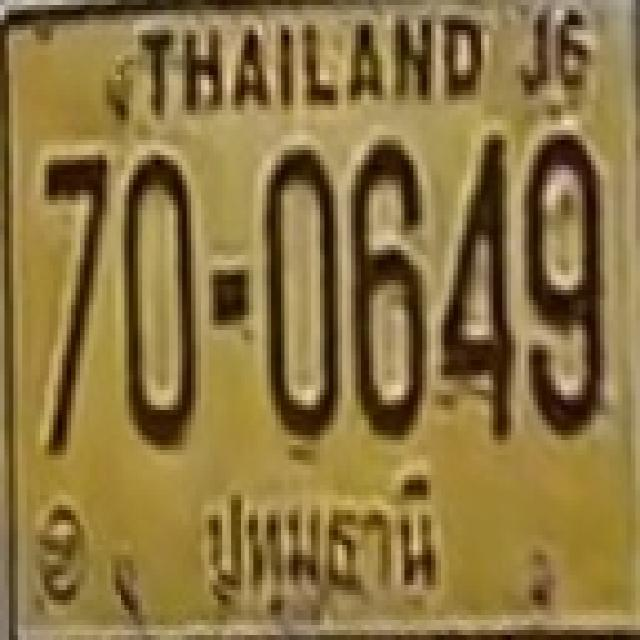0: (120, 153, 196, 454), (264, 142, 339, 444)
4: (438, 133, 515, 442)
6: (347, 133, 432, 441)
7: (36, 152, 106, 457)
9: (520, 130, 608, 430)
PTE: (184, 472, 455, 626)
